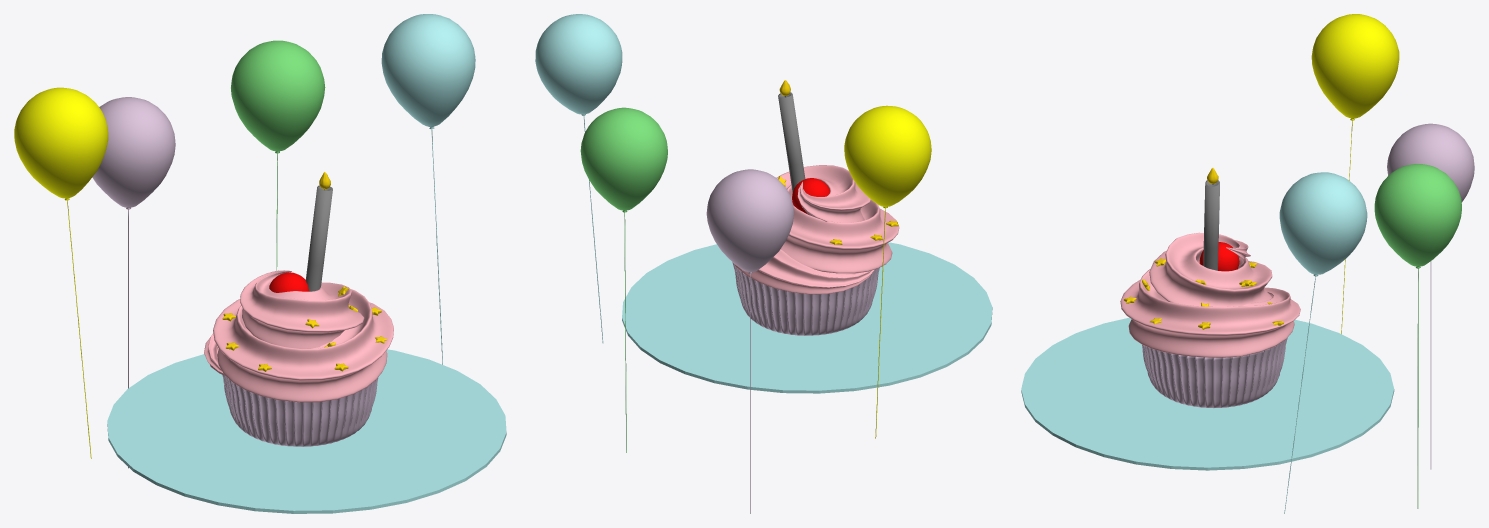
File: pastel.obj
3 renders of one model, left to right at view 1: azimuth 30°, elevation 25°; view 2: azimuth 150°, elevation 25°; view 3: azimuth 270°, elevation 25°, orthographic. The views are drawn at different scales.
Parts seen in each view (by area): view 1: BASE_Circle_004, P_GLACEZON_BezierCurve, Balloon_001_Sphere_002, Balloon_Sphere, Balloon_003_Sphere_004, Balloon_002_Sphere_003, P_Envoltura_Circle, P_Vela1_Circle_002, P_Cereza_Icosphere; view 2: BASE_Circle_004, P_GLACEZON_BezierCurve, Balloon_003_Sphere_004, Balloon_Sphere, Balloon_002_Sphere_003, Balloon_001_Sphere_002, P_Envoltura_Circle, P_Vela1_Circle_002, P_Cereza_Icosphere; view 3: BASE_Circle_004, P_GLACEZON_BezierCurve, Balloon_003_Sphere_004, Balloon_001_Sphere_002, Balloon_Sphere, P_Envoltura_Circle, Balloon_002_Sphere_003, P_Vela1_Circle_002, P_Cereza_Icosphere.
Part boxes in pixels (x1,y1,x2,y2): BASE_Circle_004: (107, 349, 506, 513); P_GLACEZON_BezierCurve: (204, 270, 393, 402); Balloon_001_Sphere_002: (381, 14, 475, 364); Balloon_Sphere: (14, 87, 108, 458); Balloon_003_Sphere_004: (231, 40, 325, 270); Balloon_002_Sphere_003: (92, 97, 175, 468); P_Envoltura_Circle: (222, 375, 378, 446); P_Vela1_Circle_002: (305, 185, 332, 291); P_Cereza_Icosphere: (269, 272, 309, 292); BASE_Circle_004: (622, 242, 992, 393); P_GLACEZON_BezierCurve: (733, 165, 899, 294); Balloon_003_Sphere_004: (580, 107, 667, 452); Balloon_Sphere: (844, 105, 931, 438); Balloon_002_Sphere_003: (706, 169, 794, 513); Balloon_001_Sphere_002: (535, 14, 622, 343); P_Envoltura_Circle: (732, 262, 879, 335); P_Vela1_Circle_002: (778, 92, 805, 192); P_Cereza_Icosphere: (792, 178, 830, 214); BASE_Circle_004: (1021, 317, 1394, 470); P_GLACEZON_BezierCurve: (1120, 232, 1300, 357); Balloon_003_Sphere_004: (1374, 164, 1461, 508); Balloon_001_Sphere_002: (1279, 172, 1367, 513); Balloon_Sphere: (1311, 14, 1399, 333); P_Envoltura_Circle: (1142, 338, 1287, 408); Balloon_002_Sphere_003: (1387, 123, 1474, 469); P_Vela1_Circle_002: (1203, 180, 1219, 270); P_Cereza_Icosphere: (1199, 242, 1239, 271).
Size of the model in its own units: 0.1868 by 0.179 by 0.1824.
9 materials, 7 textured.
